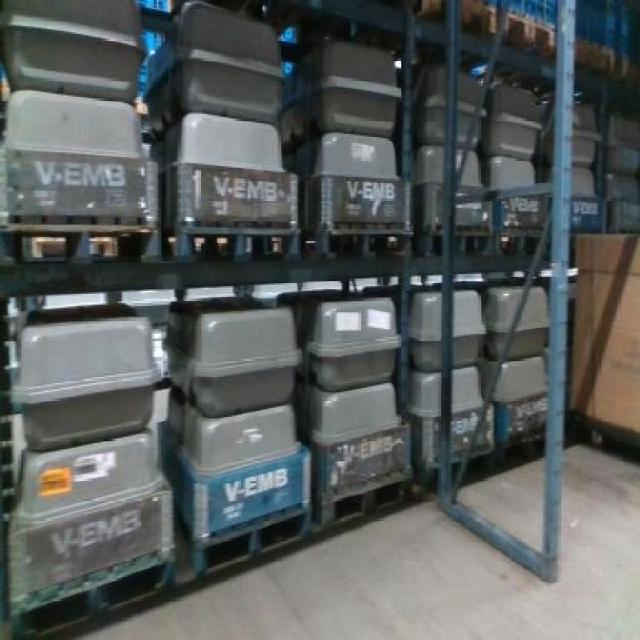pallets: (8, 429, 171, 611), (3, 89, 154, 226), (12, 305, 155, 448), (168, 295, 297, 414), (569, 234, 637, 440)
